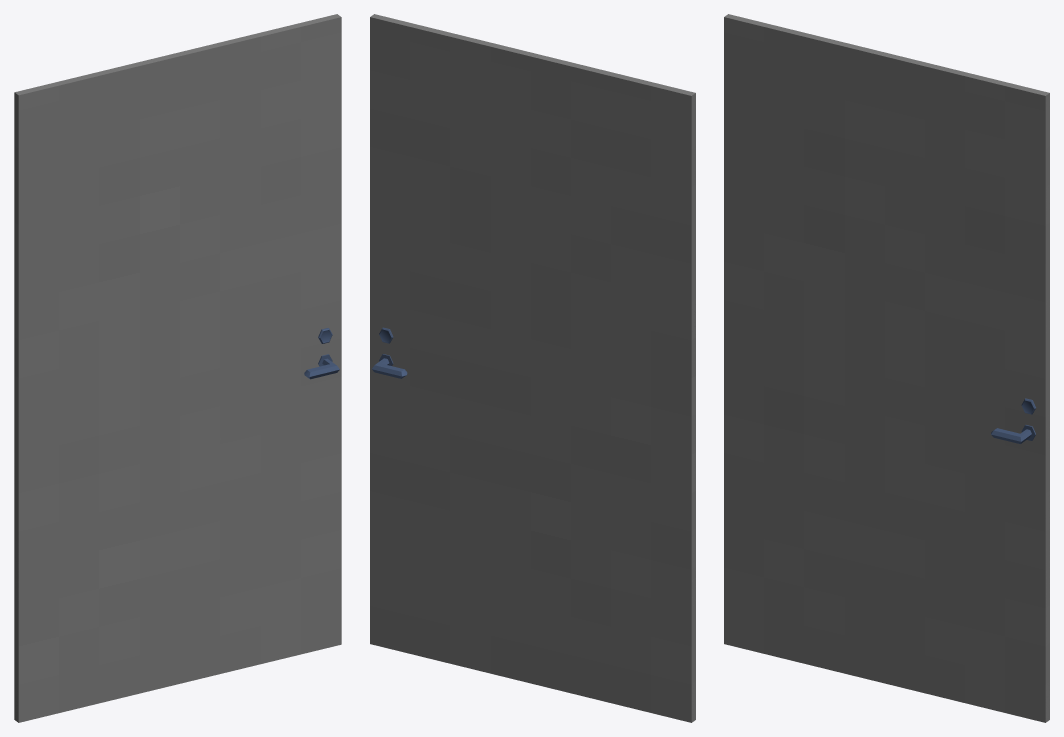
The model's file is SW_corridor__R_lobby_R_Aula_Ovi_015.FBX.
The picture shows the model from 3 angles, left to right: view 1: azimuth 30°, elevation 25°; view 2: azimuth 150°, elevation 25°; view 3: azimuth 330°, elevation 25°; orthographic projection.
Parts seen in each view (by area): view 1: SW_corridor__R_lobby_R_Aula_Ovi_015; view 2: SW_corridor__R_lobby_R_Aula_Ovi_015; view 3: SW_corridor__R_lobby_R_Aula_Ovi_015.
Part boxes in pixels (left/top/right/bottom): SW_corridor__R_lobby_R_Aula_Ovi_015: left=14, top=14, right=341, bottom=722; SW_corridor__R_lobby_R_Aula_Ovi_015: left=370, top=14, right=695, bottom=722; SW_corridor__R_lobby_R_Aula_Ovi_015: left=724, top=14, right=1049, bottom=722.
Size of the model in its own units: 110 by 15.99 by 205.
